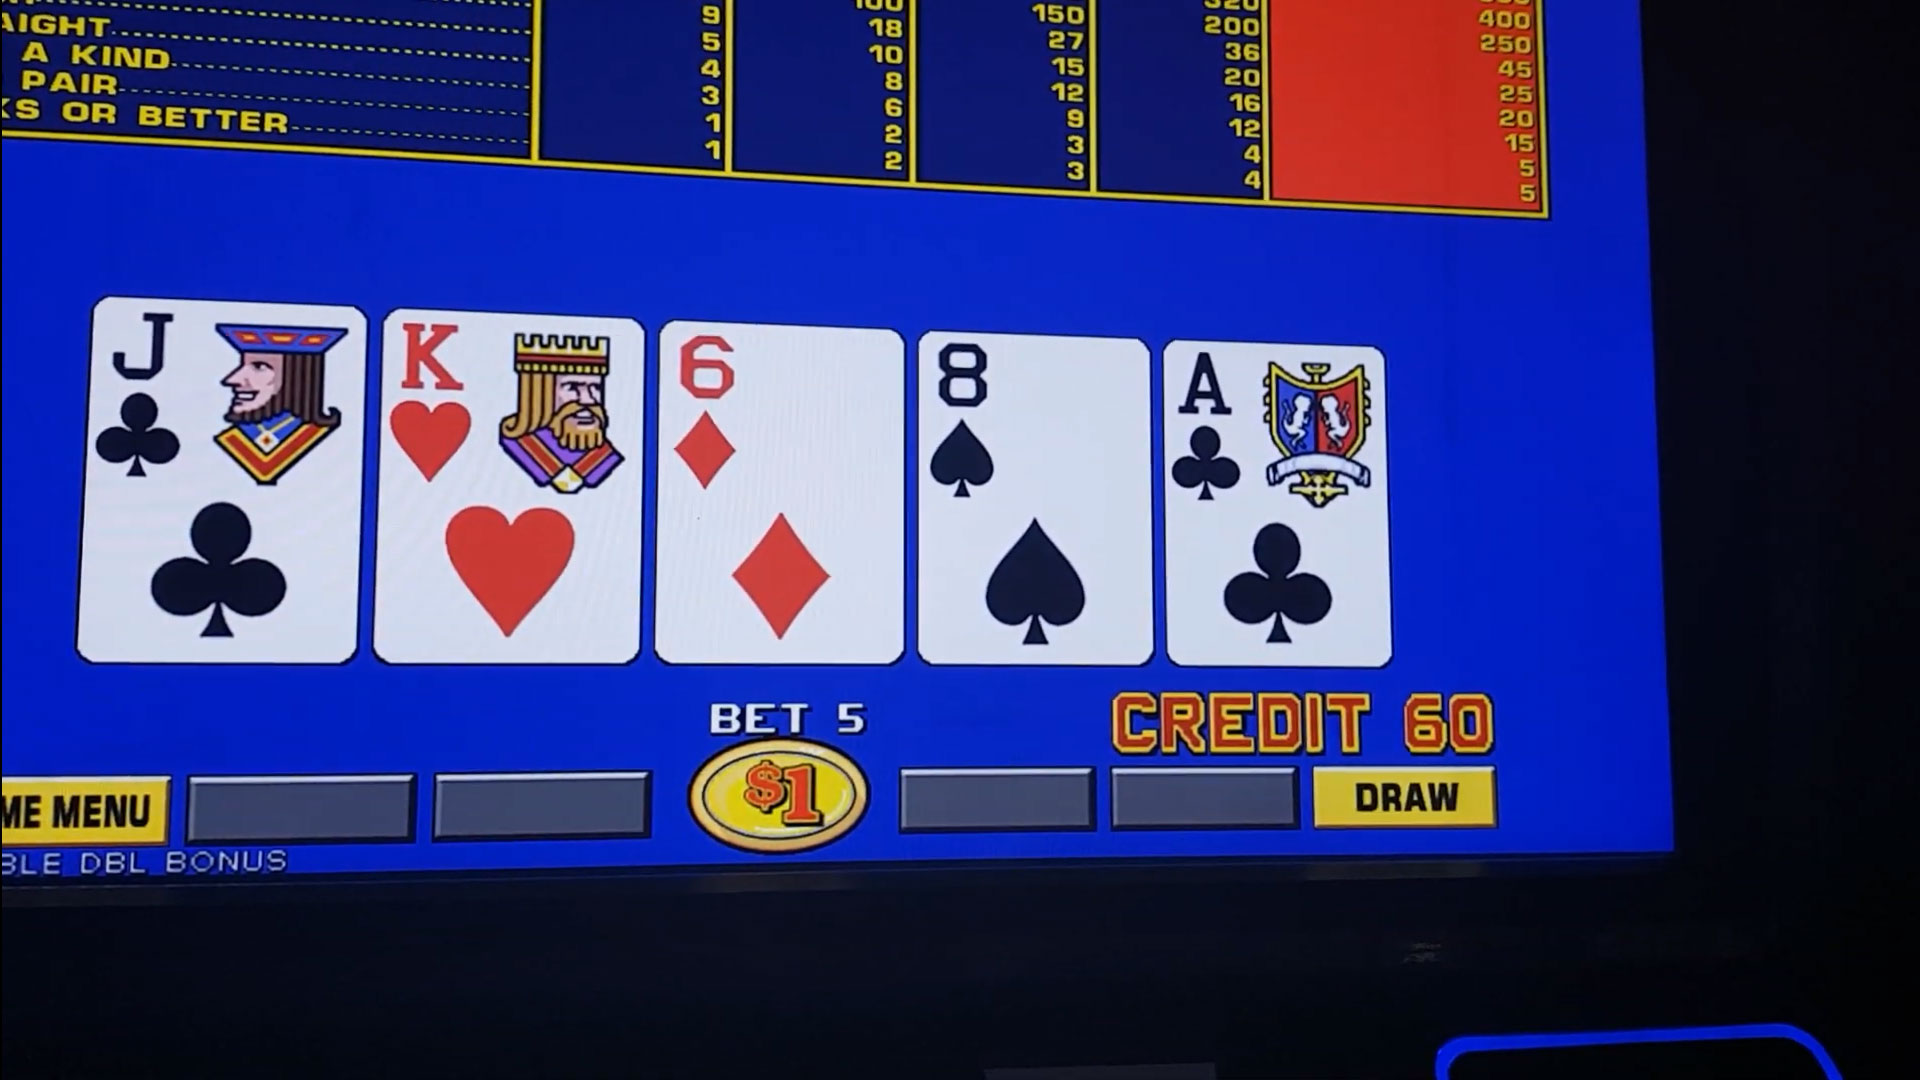CA: (1174, 349, 1379, 514)
CJ: (98, 313, 356, 489)
D6: (659, 336, 899, 505)
HK: (388, 322, 641, 496)
S8: (923, 345, 1149, 513)
